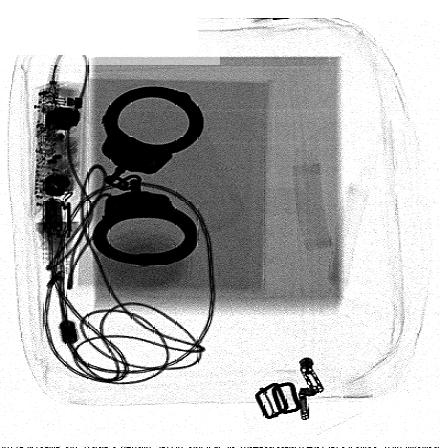HandCuffs: (93, 86, 204, 268)
